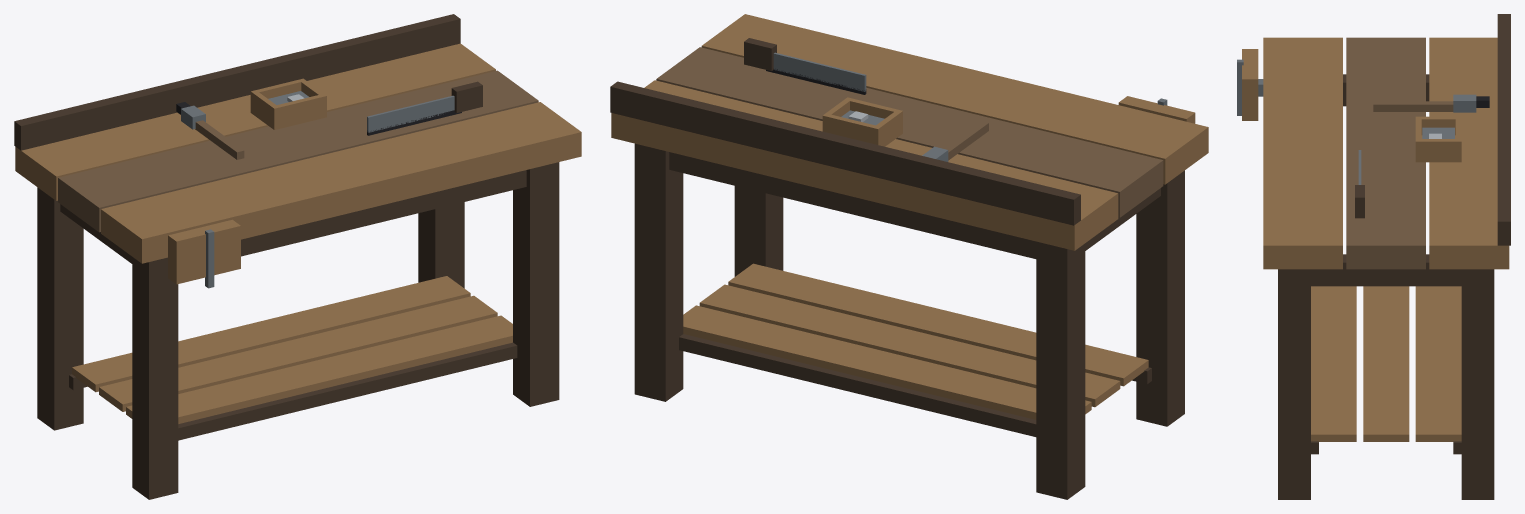
Rendered from base_workbench.glb.
3 views of the same model, side by side, from view 1: azimuth 30°, elevation 25°; view 2: azimuth 150°, elevation 25°; view 3: azimuth 270°, elevation 25° (orthographic). The views are drawn at different scales.
Visible parts, largest first — view 1: base_workbench; view 2: base_workbench; view 3: base_workbench.
Part boxes in pixels (bbox=[...]): base_workbench: bbox=[14, 14, 581, 499]; base_workbench: bbox=[610, 14, 1208, 499]; base_workbench: bbox=[1237, 14, 1510, 499].
Size of what is drawn, in the model's own units: 1.5 by 0.96 by 0.835.
2 materials, 2 textured.
